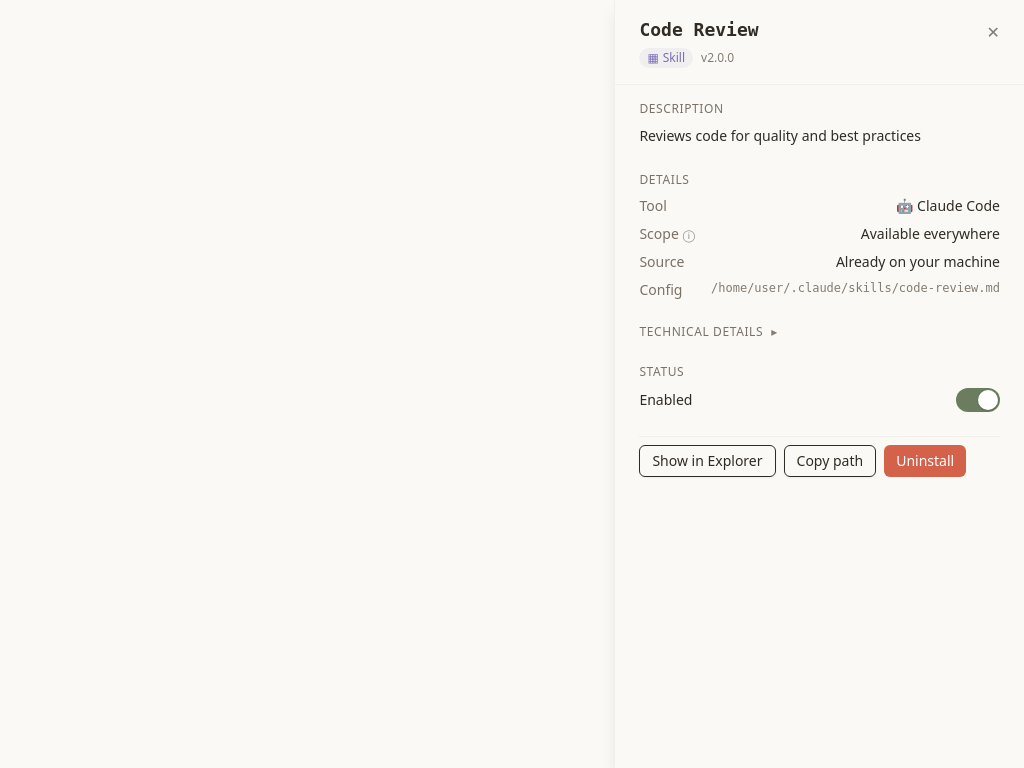
Test case: DetailPanel › renders Configuration section with skill content preview
Click the heading "Technical details" at (701, 332), box [639,324,763,340]
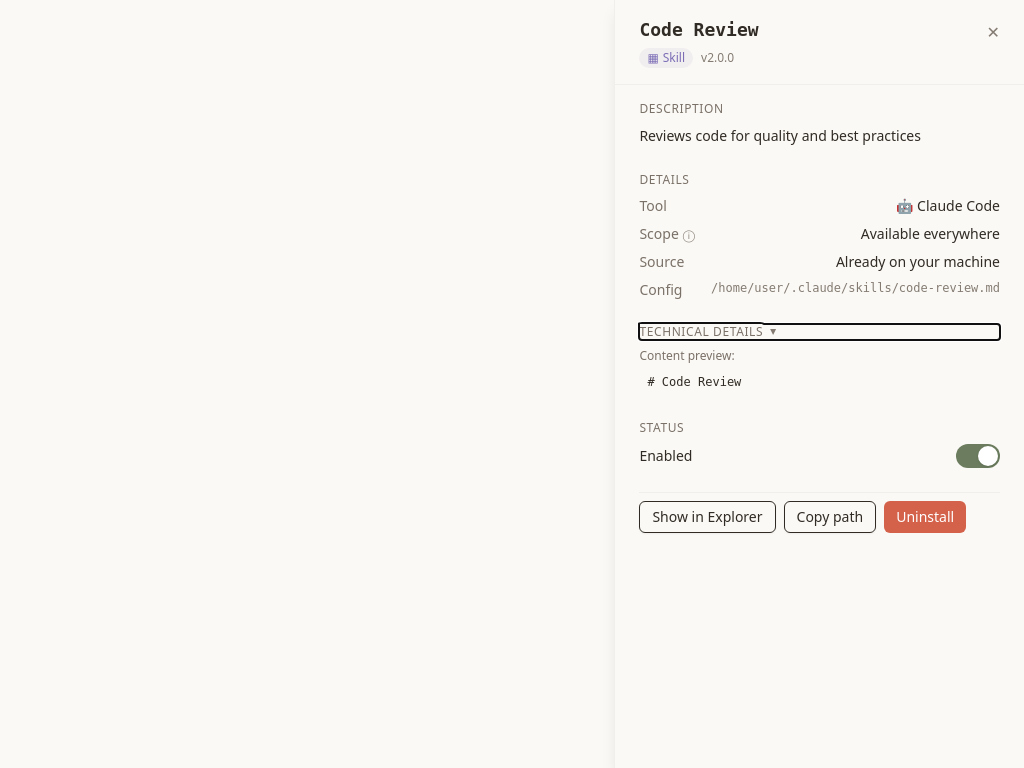
Expected: the text "# Code Review" is shown, [647,375,741,389]
